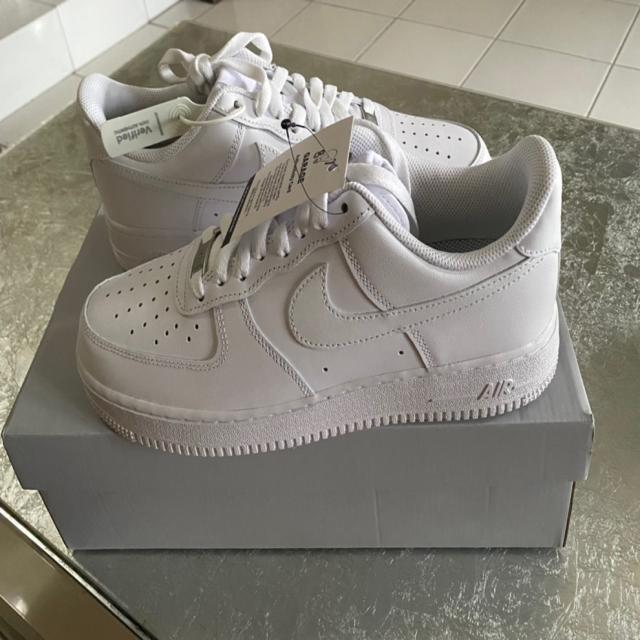nike original air force: (75, 133, 568, 460), (78, 45, 546, 269)
